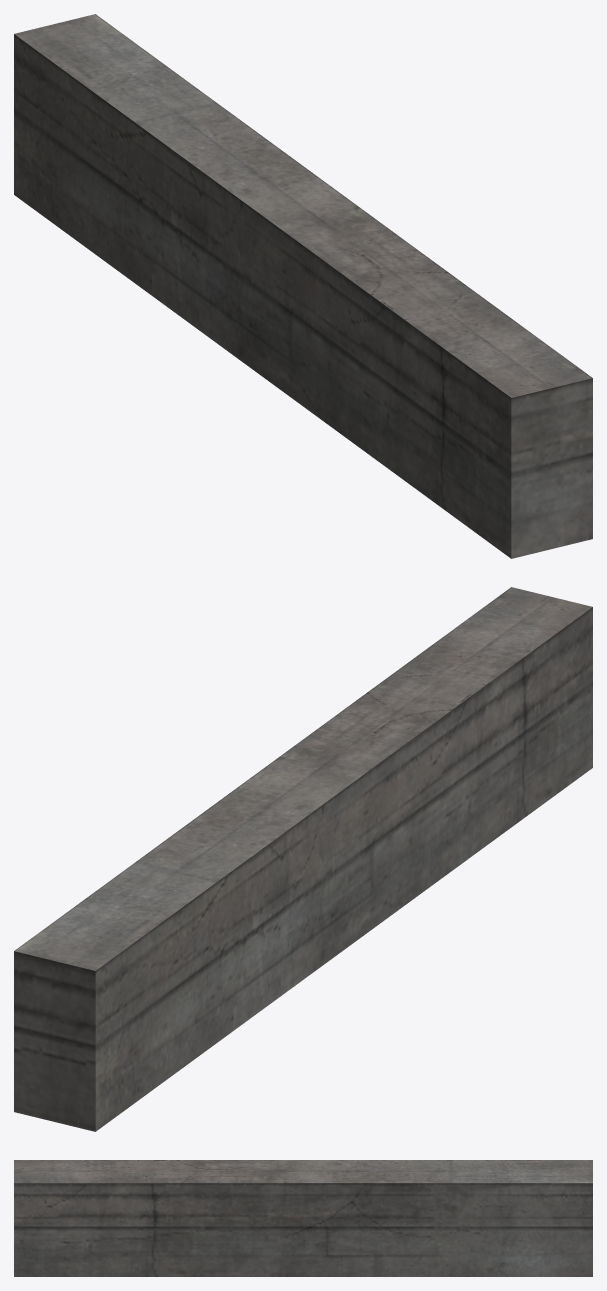
File: CP_Cornice_C_2m.fbx
3 views of the same model, one above another, from view 1: azimuth 30°, elevation 25°; view 2: azimuth 150°, elevation 25°; view 3: azimuth 270°, elevation 25° (orthographic). The views are drawn at different scales.
Parts seen in each view (by area): view 1: CP_Cornice_C_2m; view 2: CP_Cornice_C_2m; view 3: CP_Cornice_C_2m.
Part boxes in pixels (x1=…): CP_Cornice_C_2m: x1=14, y1=14, x2=592, y2=558; CP_Cornice_C_2m: x1=14, y1=587, x2=592, y2=1131; CP_Cornice_C_2m: x1=14, y1=1160, x2=592, y2=1276.
Size of the model in its own units: 18.93 by 35.69 by 200.
